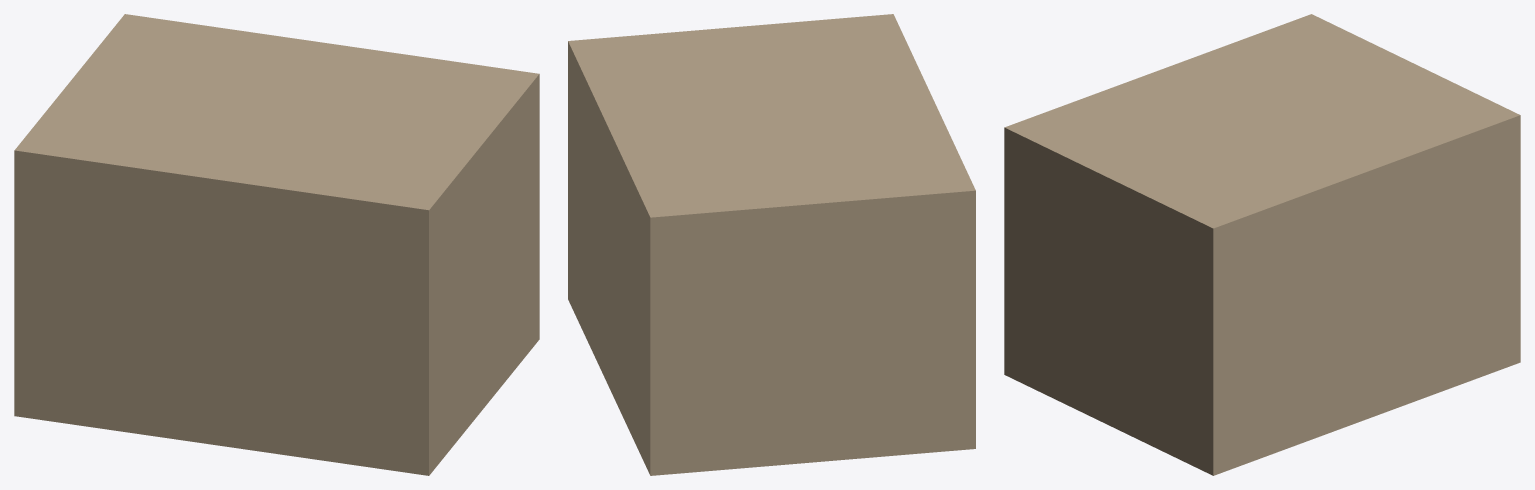
File: bld_55879439.dae
3 views of the same model, side by side, from view 1: azimuth 30°, elevation 25°; view 2: azimuth 150°, elevation 25°; view 3: azimuth 270°, elevation 25° (orthographic). The views are drawn at different scales.
Parts seen in each view (by area): view 1: bld_55879439; view 2: bld_55879439; view 3: bld_55879439.
Boxes of the visible parts, bbox=[...] form: bld_55879439: bbox=[14, 14, 539, 475]; bld_55879439: bbox=[568, 14, 975, 475]; bld_55879439: bbox=[1004, 14, 1520, 475].
Bounding box in the file's own units: 14.88 × 15.13 × 8.
